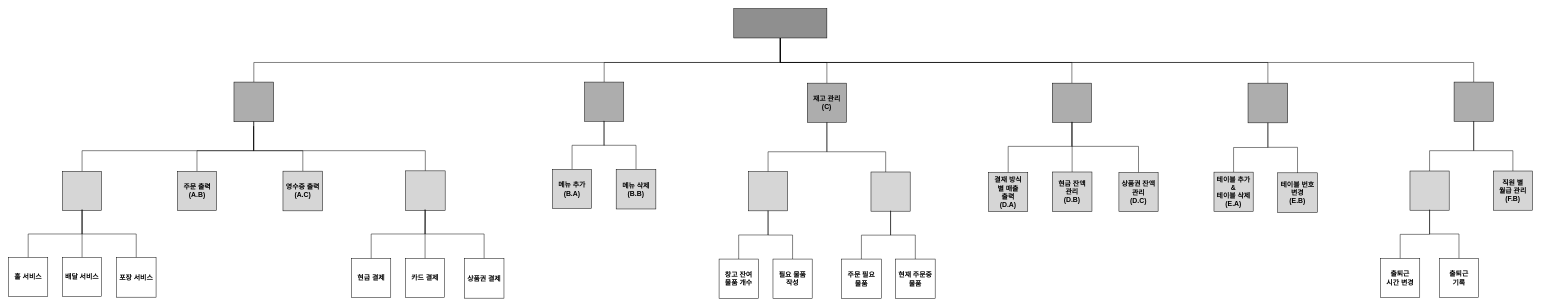
This 1541x308 diagram has some shape labels left out. The centre of each missing label's shape, as x and y in pixels:
"결제 계산 (A.D)" goes at point 425,190.
"근퇴 관리 (F.A)" goes at point 1429,190.
"매출 관리 (D)" goes at point 1071,102.
"메뉴 관리 (B)" goes at point 604,101.
"물품 관리 (C.A)" goes at point 768,191.
"음식점 매니지먼트 시스템" goes at point 780,23.
"주문 관리 (A)" goes at point 253,102.
"주문 관리 (C.B)" goes at point 890,191.
"주문 입력 (A.A)" goes at point 82,191.
"직원 관리 (F)" goes at point 1473,101.
"테이블 관리 (E)" goes at point 1268,103.
